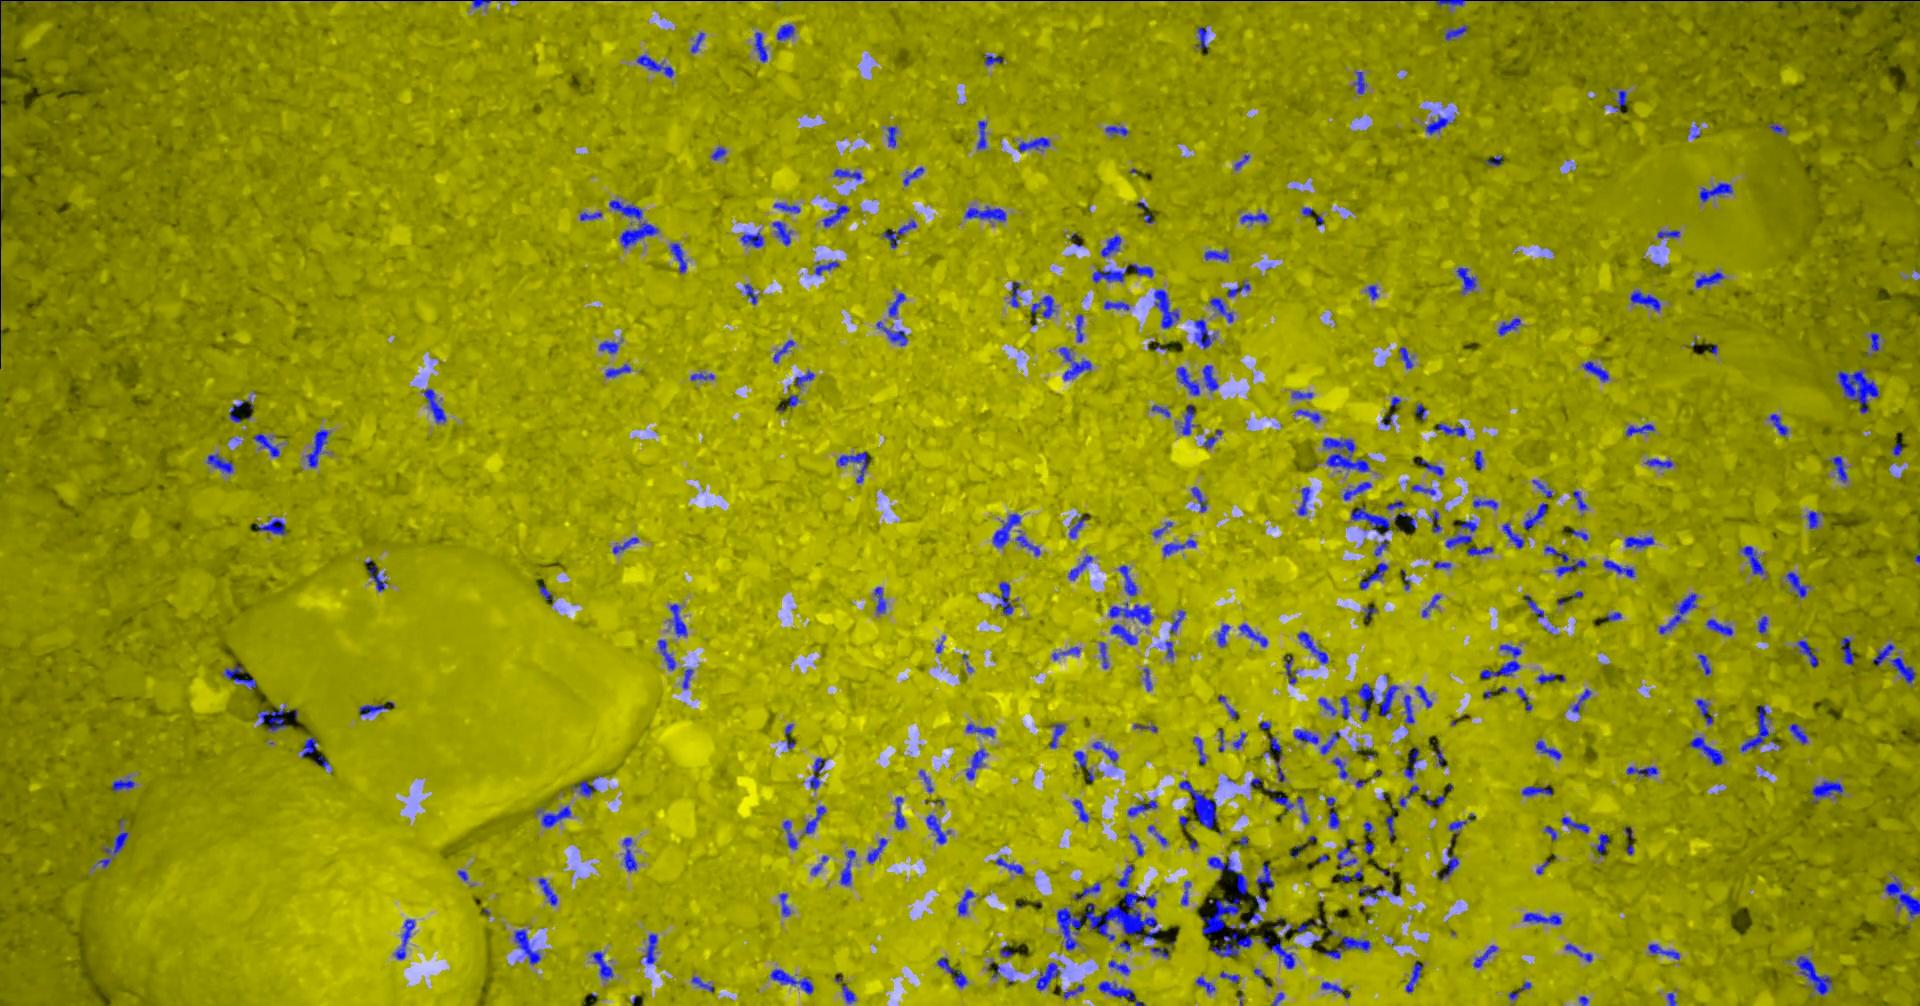ant: (608, 199, 658, 246), (1178, 779, 1217, 828), (1836, 370, 1878, 413), (1322, 437, 1368, 471), (1658, 593, 1697, 633), (1208, 856, 1247, 894), (1201, 897, 1239, 934), (1796, 955, 1831, 995), (1479, 644, 1520, 678), (1884, 876, 1919, 917), (1740, 705, 1768, 751), (1543, 546, 1586, 575), (1211, 926, 1252, 956), (1350, 506, 1389, 535), (1058, 345, 1091, 380), (1098, 981, 1144, 1005), (770, 968, 813, 993), (1323, 935, 1370, 958), (836, 451, 869, 481), (1689, 735, 1723, 765), (1109, 602, 1152, 625), (1153, 290, 1178, 328), (1297, 631, 1327, 663), (936, 956, 968, 987), (992, 513, 1020, 547), (513, 929, 540, 964), (257, 708, 297, 730), (883, 218, 916, 246), (305, 429, 329, 467), (636, 55, 673, 77), (1385, 500, 1415, 528), (394, 920, 414, 959), (223, 664, 257, 688), (1359, 561, 1387, 589), (1269, 937, 1294, 968), (1810, 780, 1843, 803), (924, 814, 950, 843), (423, 387, 444, 422), (536, 805, 570, 827), (876, 321, 907, 345), (1035, 962, 1060, 989), (1740, 545, 1764, 574), (1238, 622, 1267, 647), (1194, 318, 1217, 348), (1269, 735, 1284, 781), (1890, 657, 1915, 683), (1699, 182, 1732, 202), (964, 205, 1004, 221), (1176, 366, 1199, 395), (1629, 290, 1660, 311), (965, 748, 987, 779), (1015, 530, 1040, 555), (1437, 847, 1458, 879), (1068, 554, 1092, 580), (1523, 502, 1545, 530), (1796, 639, 1818, 667), (803, 805, 825, 833), (590, 951, 613, 979), (1379, 685, 1399, 715), (1209, 297, 1233, 323), (229, 396, 253, 422), (253, 433, 279, 456), (822, 205, 850, 226), (834, 976, 855, 1005), (668, 603, 686, 636), (1030, 295, 1055, 318), (1785, 572, 1808, 597), (657, 639, 676, 669), (102, 831, 127, 854), (1110, 622, 1137, 644), (1336, 840, 1356, 868), (537, 876, 557, 904), (1162, 539, 1196, 555), (1603, 559, 1634, 577), (1404, 960, 1422, 992), (839, 848, 855, 885), (1342, 481, 1371, 500), (1117, 565, 1137, 594), (1582, 359, 1608, 381), (1092, 741, 1117, 762), (1092, 267, 1128, 282), (1455, 267, 1476, 293), (1180, 404, 1197, 434), (1564, 942, 1592, 962), (809, 757, 825, 789), (1647, 942, 1679, 959), (997, 580, 1012, 615), (1872, 643, 1895, 666), (1473, 945, 1497, 967), (1425, 116, 1454, 133), (1321, 981, 1350, 998), (1502, 522, 1523, 547), (866, 837, 886, 862), (1829, 455, 1848, 481), (1403, 746, 1418, 779), (772, 339, 794, 362), (1017, 136, 1049, 151), (207, 453, 232, 473), (367, 565, 386, 591), (1535, 741, 1561, 760), (1559, 815, 1589, 832), (622, 837, 636, 871), (1255, 862, 1272, 889), (1073, 882, 1100, 899), (1100, 234, 1120, 257), (1319, 730, 1340, 753), (1398, 784, 1418, 807), (1695, 271, 1723, 287), (772, 221, 791, 245), (1571, 688, 1590, 713), (1217, 694, 1236, 718), (957, 889, 975, 915), (670, 243, 686, 272), (257, 518, 286, 533), (1324, 796, 1338, 828), (1705, 619, 1732, 635), (1769, 413, 1788, 436), (1068, 516, 1087, 539), (1523, 912, 1561, 923), (888, 292, 905, 316), (1128, 800, 1156, 815), (782, 821, 797, 848), (996, 857, 1023, 873), (1190, 486, 1206, 512), (1695, 699, 1712, 724), (1421, 594, 1440, 616), (813, 260, 839, 276), (1497, 318, 1520, 335), (1203, 365, 1218, 391), (1525, 594, 1543, 617), (573, 779, 596, 796), (754, 30, 767, 62), (1225, 279, 1250, 296), (1357, 683, 1374, 708), (1048, 723, 1064, 747), (1297, 486, 1310, 514), (872, 586, 886, 614), (1284, 655, 1298, 683), (903, 166, 923, 185), (612, 537, 637, 553), (1788, 723, 1807, 743), (1420, 459, 1443, 475), (1415, 685, 1431, 708), (1515, 687, 1531, 710), (894, 796, 905, 829), (1072, 799, 1088, 822), (1357, 885, 1384, 899), (1840, 636, 1853, 666), (965, 723, 994, 735), (644, 934, 657, 963), (918, 768, 933, 793), (1203, 429, 1222, 448), (1147, 826, 1166, 845), (691, 976, 712, 992), (833, 168, 861, 180), (604, 363, 630, 377), (1445, 533, 1470, 547), (1051, 647, 1079, 659), (1293, 729, 1318, 743), (1192, 735, 1205, 763), (1297, 796, 1309, 824), (1624, 536, 1655, 547), (1531, 479, 1550, 497), (794, 370, 814, 386), (1152, 521, 1172, 537), (1272, 794, 1293, 810), (1239, 212, 1269, 224), (1625, 423, 1655, 434), (1403, 694, 1415, 723), (359, 702, 389, 714), (1332, 757, 1347, 779), (1128, 833, 1143, 855), (1295, 409, 1321, 422), (1625, 766, 1657, 776), (1444, 25, 1467, 39), (1352, 71, 1366, 94), (740, 232, 763, 246), (1130, 263, 1153, 277), (1437, 423, 1465, 434), (1170, 610, 1183, 633), (1806, 511, 1823, 528), (1318, 697, 1336, 715), (810, 855, 827, 874), (1195, 976, 1214, 992), (301, 737, 316, 757), (1521, 785, 1552, 795), (1063, 983, 1083, 998), (1204, 248, 1228, 260), (110, 779, 135, 791), (1338, 869, 1363, 882), (1613, 89, 1627, 111), (1398, 347, 1412, 368), (776, 23, 794, 39), (1217, 624, 1229, 647), (690, 32, 703, 52), (743, 283, 757, 304), (1572, 490, 1586, 511), (1465, 546, 1493, 556), (1697, 654, 1710, 674), (1109, 960, 1129, 974), (1429, 511, 1441, 532), (1008, 281, 1018, 307), (1098, 641, 1109, 668), (538, 586, 552, 605), (1338, 695, 1350, 718), (977, 119, 985, 149), (773, 202, 799, 212), (1103, 300, 1129, 310), (598, 340, 618, 353), (1472, 498, 1497, 508), (1644, 459, 1672, 467), (1232, 732, 1246, 749), (1448, 821, 1465, 835), (1596, 833, 1608, 855), (778, 893, 790, 915), (1103, 124, 1128, 135), (1411, 484, 1435, 494), (1180, 880, 1190, 904), (1197, 25, 1208, 48), (682, 668, 693, 688), (1384, 814, 1394, 837), (1219, 970, 1239, 982), (1374, 539, 1388, 555), (1073, 749, 1086, 767), (886, 126, 897, 147), (1868, 332, 1879, 351), (1150, 405, 1170, 417), (1425, 794, 1444, 805), (1484, 154, 1502, 165), (1435, 0, 1465, 6), (1537, 673, 1556, 683), (1768, 122, 1784, 133), (1459, 520, 1476, 531), (690, 372, 714, 380), (1473, 450, 1482, 470), (1757, 615, 1768, 633), (1150, 946, 1168, 956), (711, 146, 725, 159), (1076, 314, 1082, 342), (1143, 667, 1150, 690), (984, 55, 1001, 65), (579, 212, 601, 220), (1657, 230, 1679, 238), (1164, 640, 1173, 658), (471, 0, 491, 8), (1291, 390, 1312, 398), (787, 394, 799, 406), (1366, 285, 1377, 298), (1817, 0, 1919, 1)
